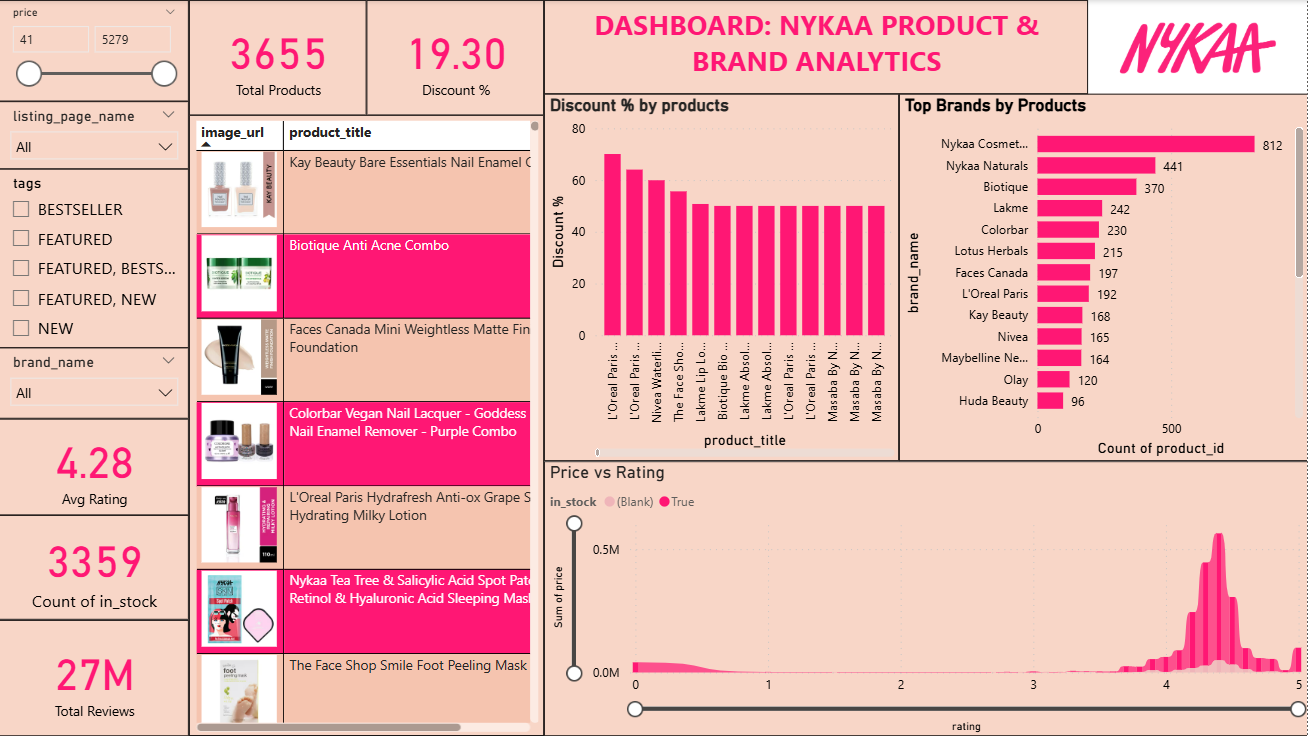

This screenshot's page, from the dashboard's own definition file:
{"tool":"powerbi","page":{"name":"Dashboard","canvas":[1280,720],"ordinal":0},"visuals":[{"type":"clusteredBarChart","title":"Top Brands by Products","fields":{"Category":["nyka_popular_brands_products_2022_10_16.brand_name"],"Y":["CountNonNull(nyka_popular_brands_products_2022_10_16.product_id)"]},"box":[880.1,91.7,399.7,359.4],"z":0},{"type":"clusteredColumnChart","title":"Discount % by products","fields":{"Y":["nyka_popular_brands_products_2022_10_16.Discount %"],"Category":["nyka_popular_brands_products_2022_10_16.product_title"]},"box":[533,91.7,347.2,359.4],"z":1000},{"type":"ribbonChart","title":"Price vs Rating","fields":{"Category":["nyka_popular_brands_products_2022_10_16.rating"],"Y":["Sum(nyka_popular_brands_products_2022_10_16.price)"],"Series":["nyka_popular_brands_products_2022_10_16.in_stock"]},"box":[533,451.1,746.9,268.9],"z":2000},{"type":"tableEx","fields":{"Values":["nyka_popular_brands_products_2022_10_16.image_url","nyka_popular_brands_products_2022_10_16.product_title"]},"box":[185.8,112.5,347.2,607.5],"z":3000},{"type":"slicer","fields":{"Values":["nyka_popular_brands_products_2022_10_16.price"]},"box":[0,0,185.8,99],"z":4000},{"type":"slicer","fields":{"Values":["nyka_popular_brands_products_2022_10_16.listing_page_name"]},"box":[0,99,185.8,66],"z":5000},{"type":"slicer","fields":{"Values":["nyka_popular_brands_products_2022_10_16.tags"]},"box":[0,165,185.8,174.8],"z":6000},{"type":"card","fields":{"Values":["nyka_popular_brands_products_2022_10_16.Discount %"]},"box":[359.4,0,173.6,112.5],"z":7000},{"type":"card","fields":{"Values":["nyka_popular_brands_products_2022_10_16.Total Products"]},"box":[185.8,0,173.6,112.5],"z":8000},{"type":"card","fields":{"Values":["nyka_popular_brands_products_2022_10_16.Total Reviews"]},"box":[0,606.3,185.8,113.7],"z":9000},{"type":"card","fields":{"Values":["nyka_popular_brands_products_2022_10_16.Avg Rating"]},"box":[0,409.5,185.8,94.1],"z":10000},{"type":"image","box":[1064.7,0,215.1,92.9],"z":11000},{"type":"textbox","box":[533,0,531.7,91.7],"z":12000},{"type":"slicer","fields":{"Values":["nyka_popular_brands_products_2022_10_16.brand_name"]},"box":[0,339.8,185.8,69.7],"z":13000},{"type":"card","fields":{"Values":["CountNonNull(nyka_popular_brands_products_2022_10_16.in_stock)"]},"box":[0,503.6,185.8,102.7],"z":14000}]}

Visuals, with their boxes in screenshot pixels (x1, y1, x2, y2), scaled from the page's 1280x720 canvas onto the 1308x736 screenshot:
"Top Brands by Products" clusteredBarChart: select_region(899, 94, 1307, 461)
"Discount % by products" clusteredColumnChart: select_region(545, 94, 899, 461)
"Price vs Rating" ribbonChart: select_region(545, 461, 1307, 735)
tableEx - nyka_popular_brands_products_2022_10_16.image_url x nyka_popular_brands_products_2022_10_16.product_title: select_region(190, 115, 545, 735)
slicer - nyka_popular_brands_products_2022_10_16.price: select_region(0, 0, 190, 101)
slicer - nyka_popular_brands_products_2022_10_16.listing_page_name: select_region(0, 101, 190, 169)
slicer - nyka_popular_brands_products_2022_10_16.tags: select_region(0, 169, 190, 347)
card - nyka_popular_brands_products_2022_10_16.Discount %: select_region(367, 0, 545, 115)
card - nyka_popular_brands_products_2022_10_16.Total Products: select_region(190, 0, 367, 115)
card - nyka_popular_brands_products_2022_10_16.Total Reviews: select_region(0, 620, 190, 735)
card - nyka_popular_brands_products_2022_10_16.Avg Rating: select_region(0, 419, 190, 515)
image: select_region(1088, 0, 1307, 95)
textbox: select_region(545, 0, 1088, 94)
slicer - nyka_popular_brands_products_2022_10_16.brand_name: select_region(0, 347, 190, 419)
card - CountNonNull(nyka_popular_brands_products_2022_10_16.in_stock): select_region(0, 515, 190, 620)
